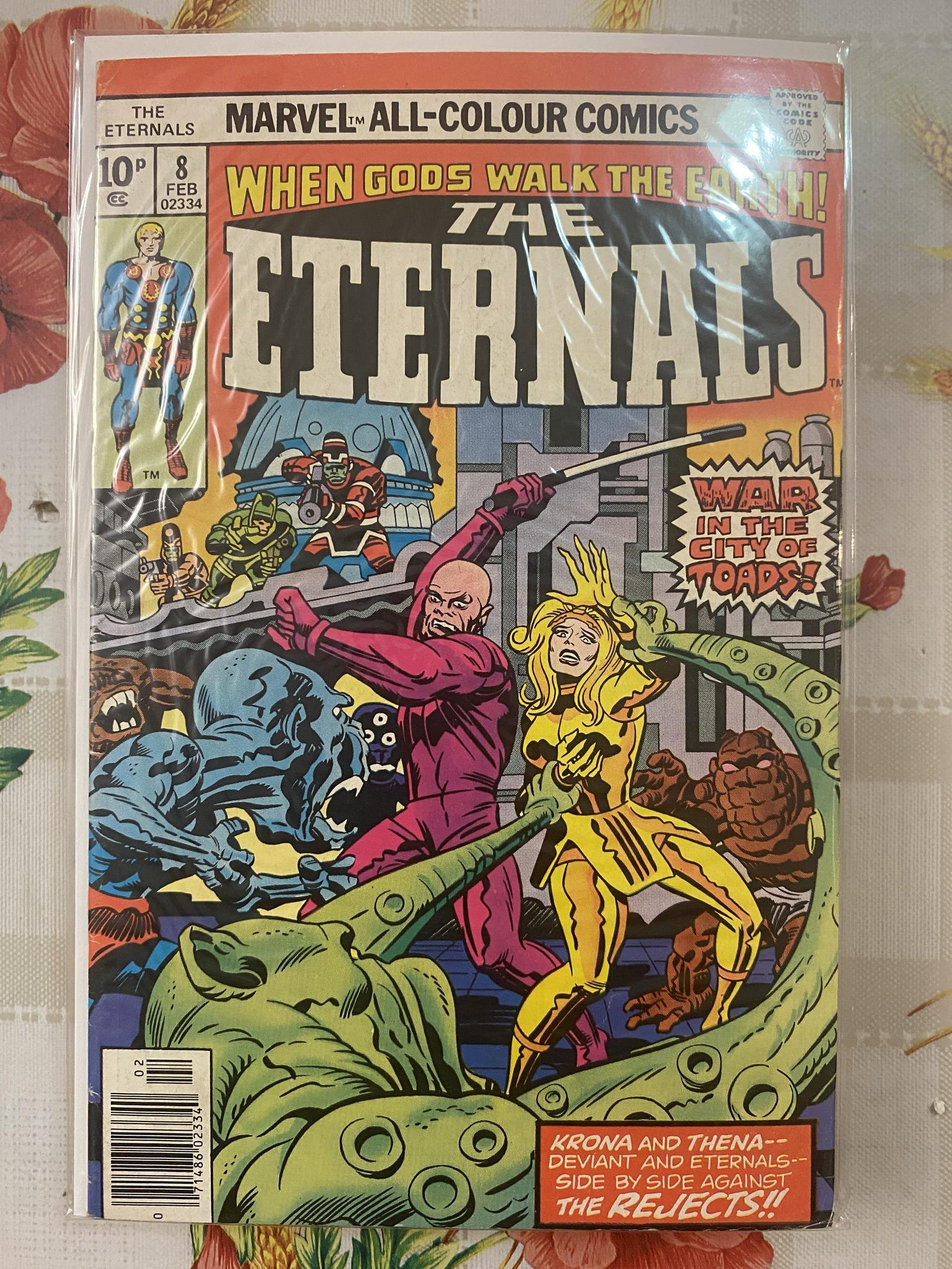comic: (70, 30, 862, 1232)
